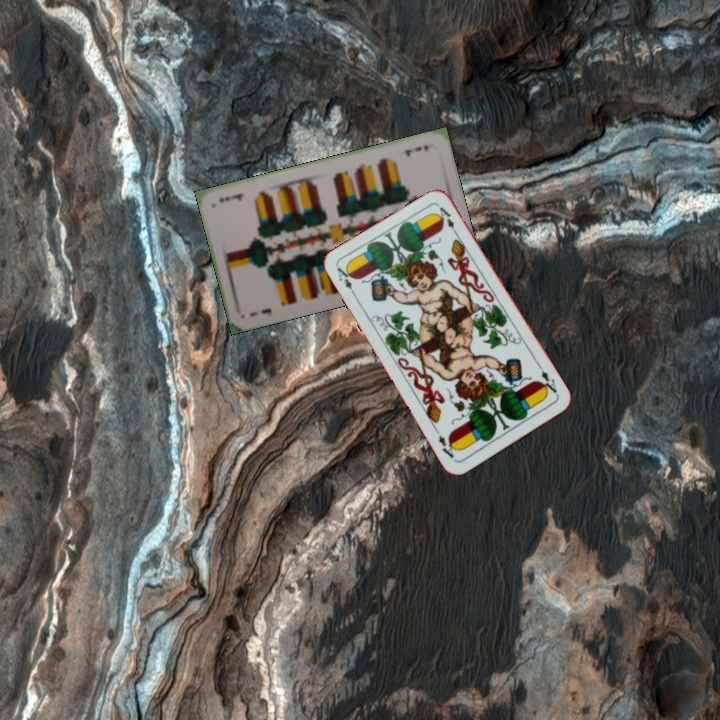E7: (398, 141, 431, 159), (246, 304, 274, 319)
EA: (333, 262, 359, 300), (535, 362, 561, 399)
